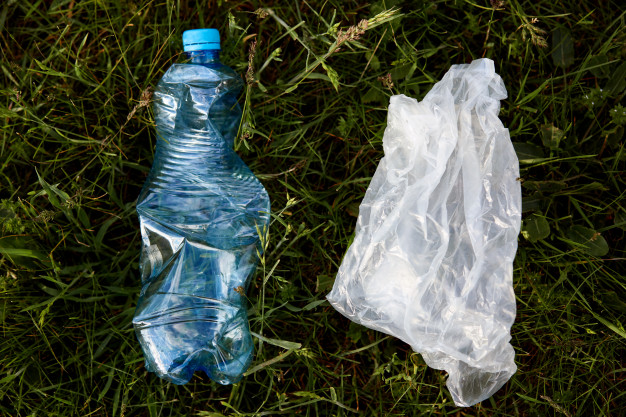plastic_bagwdw: (301, 25, 567, 417)
